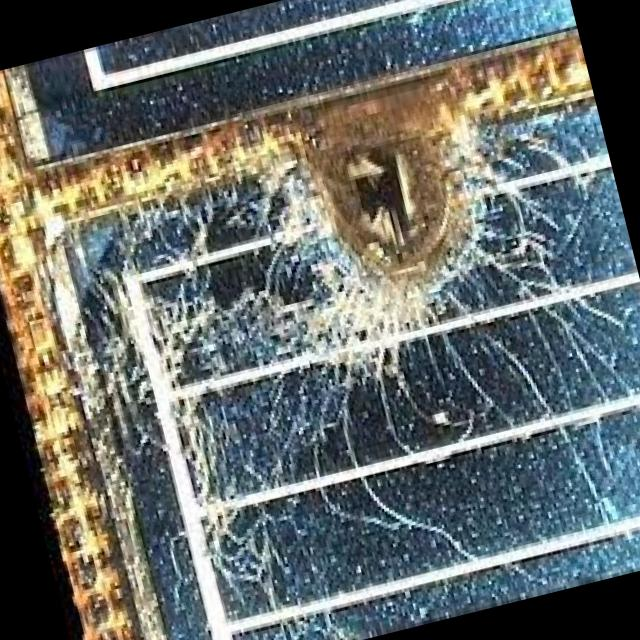faulty: (95, 110, 640, 640)
